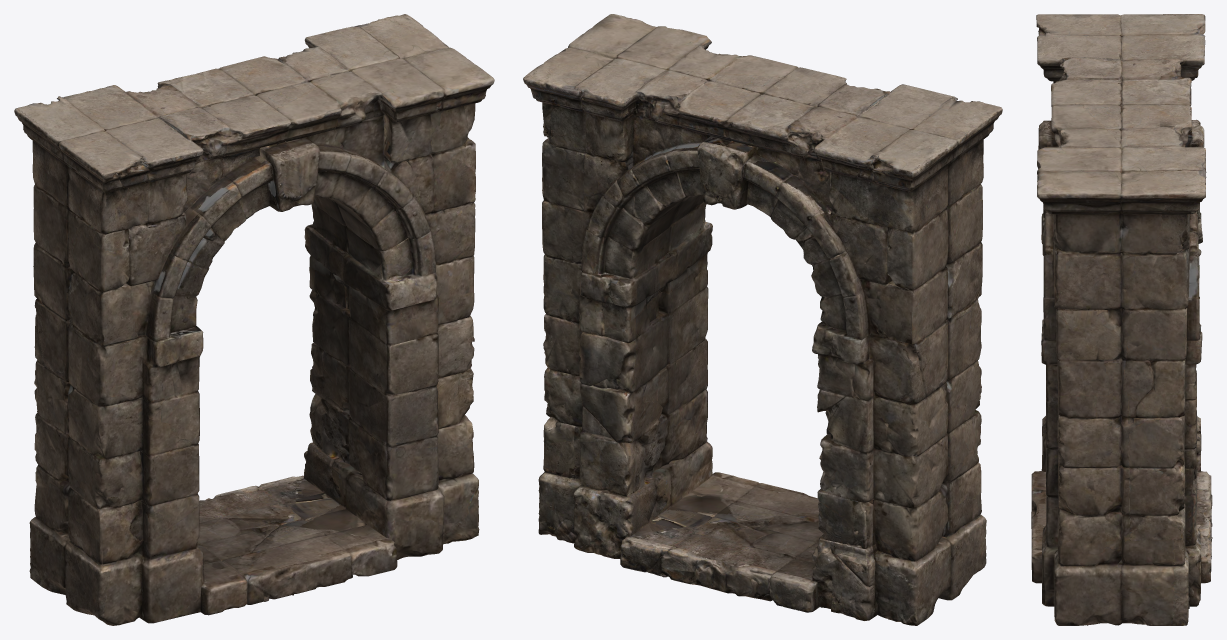
File: Arena_gate.glb
3 renders of one model, left to right at view 1: azimuth 30°, elevation 25°; view 2: azimuth 150°, elevation 25°; view 3: azimuth 270°, elevation 25°, orthographic. The views are drawn at different scales.
Visible parts, largest first — view 1: YVO3D.obj; view 2: YVO3D.obj; view 3: YVO3D.obj.
Part boxes in pixels (left/top/right/bottom): YVO3D.obj: left=14, top=14, right=494, bottom=625; YVO3D.obj: left=523, top=14, right=1002, bottom=625; YVO3D.obj: left=1031, top=14, right=1212, bottom=625.
Bounding box in the file's own units: 0.8582 × 0.9813 × 0.3655.
Materials: 1 (1 with a texture image).
